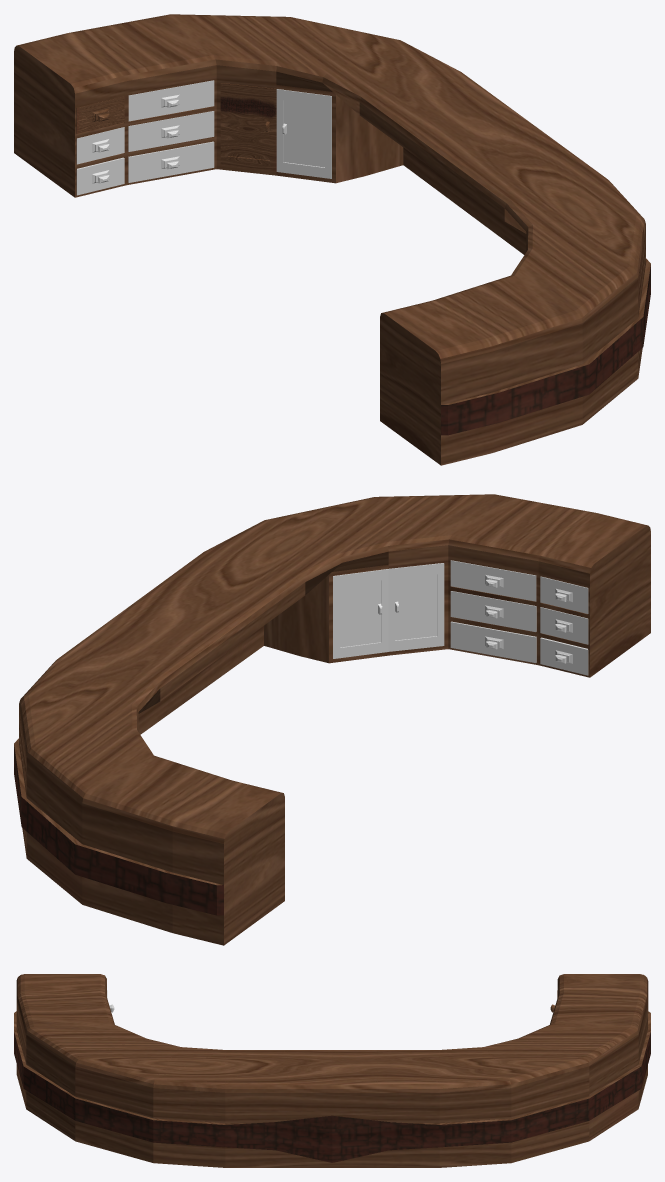
File: buyukmasa.fbx
3 renders of one model, top to bottom at view 1: azimuth 30°, elevation 25°; view 2: azimuth 150°, elevation 25°; view 3: azimuth 270°, elevation 25°, orthographic. The views are drawn at different scales.
Parts seen in each view (by area): view 1: buyukmasa, solakapak, sagkapak, buyukcekmece3, buyukcekmece1, buyukcekmece2, cekmece3, cekmece1, cekmece2; view 2: buyukmasa, solakapak.001, sagkapak.001, buyukcekmece3.001, buyukcekmece1.001, buyukcekmece2.001, cekmece3.001, cekmece1.001, cekmece2.001; view 3: buyukmasa.
Boxes of the visible parts, <box> form: buyukmasa: <box>14,14,650,465</box>; solakapak: <box>220,83,276,171</box>; sagkapak: <box>276,89,331,178</box>; buyukcekmece3: <box>128,141,214,182</box>; buyukcekmece1: <box>128,80,214,121</box>; buyukcekmece2: <box>128,111,214,151</box>; cekmece3: <box>76,157,124,195</box>; cekmece1: <box>76,96,124,133</box>; cekmece2: <box>76,127,124,164</box>; buyukmasa: <box>14,494,650,945</box>; solakapak.001: <box>388,563,444,651</box>; sagkapak.001: <box>333,569,388,658</box>; buyukcekmece3.001: <box>450,621,536,662</box>; buyukcekmece1.001: <box>450,560,536,601</box>; buyukcekmece2.001: <box>450,591,536,631</box>; cekmece3.001: <box>540,637,588,675</box>; cekmece1.001: <box>540,576,588,613</box>; cekmece2.001: <box>540,607,588,644</box>; buyukmasa: <box>14,974,650,1167</box>.
Bounding box in the file's own units: 5032 × 1641 × 11570.
3 materials, 3 textured.
